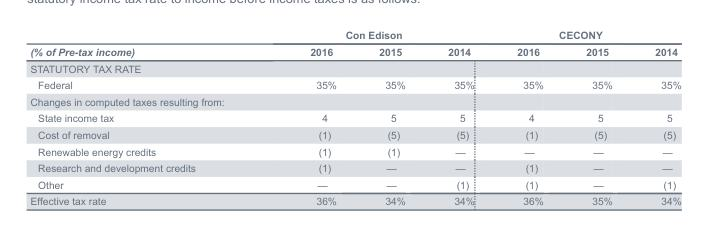table: (29, 29, 680, 206)
table column: (29, 29, 252, 206), (252, 29, 357, 206), (357, 29, 426, 206), (426, 29, 495, 206), (495, 29, 564, 206), (564, 29, 633, 206), (633, 29, 680, 206)
table column header: (29, 29, 680, 59)
table projected row header: (29, 59, 680, 76), (29, 92, 680, 109)
table row: (29, 59, 680, 76), (29, 92, 680, 109), (29, 109, 680, 126), (29, 142, 680, 159), (29, 175, 680, 192), (29, 43, 680, 59), (29, 76, 680, 92), (29, 126, 680, 142), (29, 159, 680, 175), (29, 29, 680, 43), (29, 192, 680, 206)
table spanning cell: (29, 29, 252, 59), (252, 29, 495, 43), (495, 29, 680, 43)
